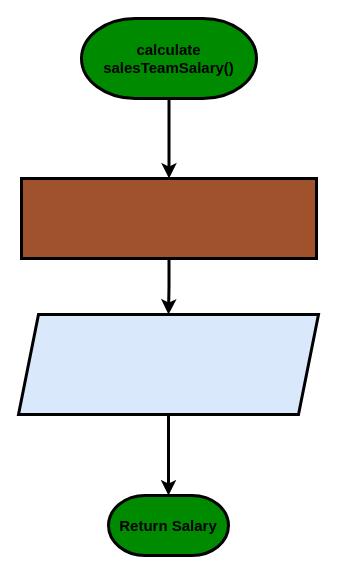
This 337x574 diagram has some shape labels left out. Each missing label, with the centre of its shape:
Display "Salary for the month" Salary: pixel 168 364
Salary= (payRate * hoursWorked) + (overTimeHours*overTimeBase): pixel 169 218
